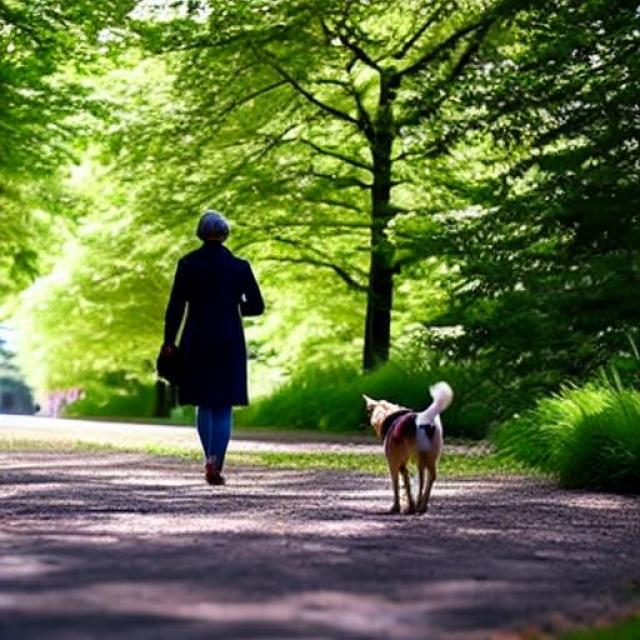Unleashed_Dog: (196, 381, 454, 516)
